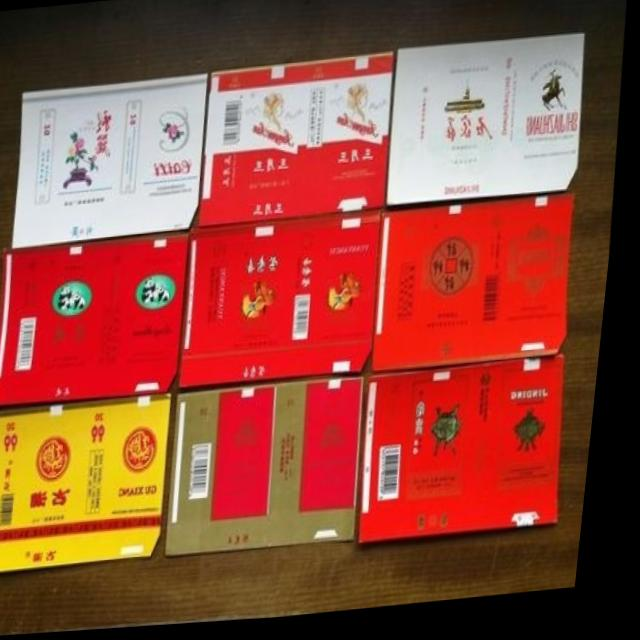box: (370, 361, 572, 550), (186, 210, 389, 391), (380, 201, 578, 376), (0, 231, 194, 408), (177, 384, 373, 558), (15, 76, 209, 249), (390, 41, 586, 211), (203, 58, 395, 231), (0, 399, 180, 572)
